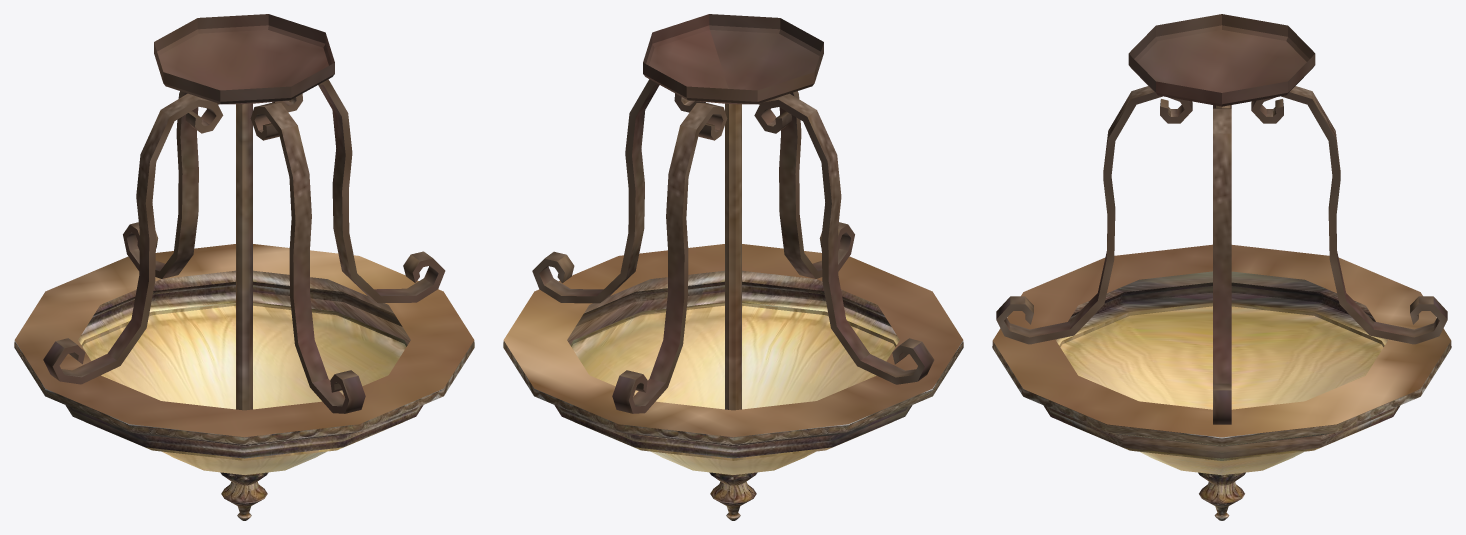
Rendered from CellingLamp.fbx.
3 views of the same model, side by side, from view 1: azimuth 30°, elevation 25°; view 2: azimuth 150°, elevation 25°; view 3: azimuth 270°, elevation 25° (orthographic).
Parts seen in each view (by area): view 1: LampHolder_2, CurlyCurve, GlowLamp, Lamp_Holder; view 2: LampHolder_2, CurlyCurve, GlowLamp, Lamp_Holder; view 3: LampHolder_2, GlowLamp, CurlyCurve, Lamp_Holder.
Part boxes in pixels (x1,y1,x2,y2): LampHolder_2: (14, 244, 474, 520); CurlyCurve: (43, 79, 445, 413); GlowLamp: (81, 302, 407, 474); Lamp_Holder: (154, 14, 334, 410); LampHolder_2: (503, 244, 963, 520); CurlyCurve: (532, 79, 934, 413); GlowLamp: (570, 302, 896, 474); Lamp_Holder: (643, 14, 823, 410); LampHolder_2: (992, 244, 1451, 520); GlowLamp: (1059, 302, 1384, 475); CurlyCurve: (996, 86, 1447, 424); Lamp_Holder: (1128, 14, 1315, 108).
Size of the model in its own units: 55.52 by 62.21 by 55.52.
Materials: 2 (2 with a texture image).
